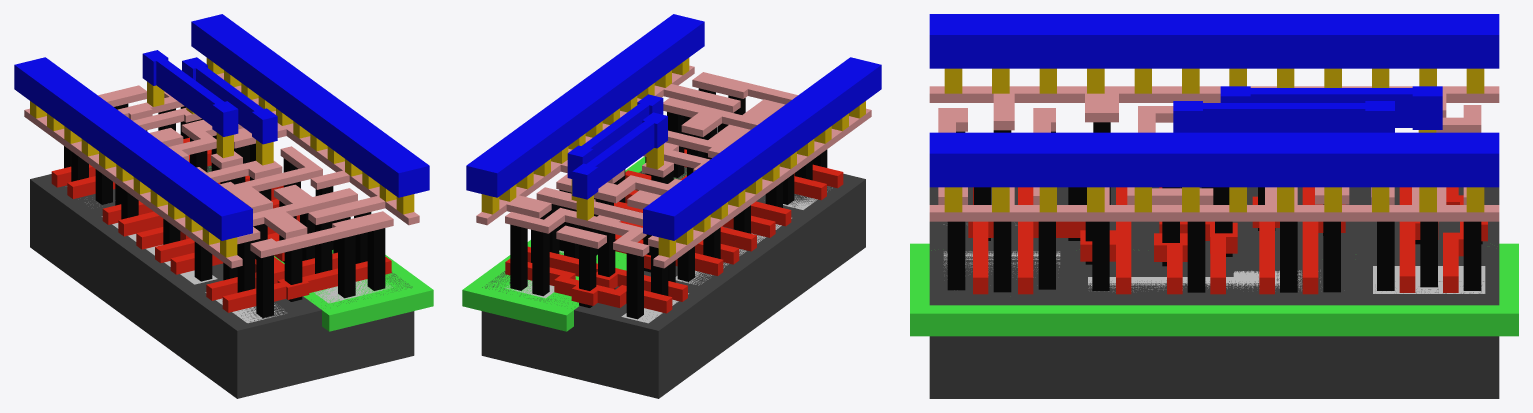
The model's file is sky130_fd_sc_hd__dlxtp_1.obj.
3 renders of one model, left to right at view 1: azimuth 30°, elevation 25°; view 2: azimuth 150°, elevation 25°; view 3: azimuth 270°, elevation 25°, orthographic. The views are drawn at different scales.
Parts seen in each view (by area): view 1: metal1, subs, li, licon, poly, mcon, nwell, diff, tap; view 2: metal1, subs, li, licon, poly, mcon, nwell, diff; view 3: metal1, subs, nwell, li, licon, poly, mcon, tap.
Part boxes in pixels (left/top/right/bottom): metal1: left=14, top=14, right=429, bottom=240; subs: left=30, top=165, right=414, bottom=398; li: left=24, top=73, right=419, bottom=268; licon: left=64, top=103, right=385, bottom=317; poly: left=51, top=137, right=391, bottom=312; mcon: left=30, top=58, right=414, bottom=257; nwell: left=207, top=166, right=433, bottom=331; diff: left=85, top=202, right=286, bottom=323; tap: left=314, top=279, right=392, bottom=303; metal1: left=466, top=14, right=881, bottom=240; subs: left=481, top=167, right=865, bottom=398; li: left=476, top=65, right=871, bottom=268; licon: left=510, top=88, right=827, bottom=319; poly: left=505, top=149, right=843, bottom=313; mcon: left=481, top=58, right=865, bottom=257; nwell: left=462, top=156, right=686, bottom=331; diff: left=621, top=187, right=832, bottom=323; metal1: left=929, top=14, right=1499, bottom=187; subs: left=929, top=187, right=1499, bottom=398; nwell: left=910, top=243, right=1518, bottom=336; li: left=929, top=86, right=1499, bottom=221; licon: left=947, top=122, right=1482, bottom=292; poly: left=968, top=187, right=1487, bottom=294; mcon: left=944, top=68, right=1484, bottom=212; tap: left=943, top=251, right=1485, bottom=293.
Size of the model in its own units: 3.2 by 2.74 by 5.9.
